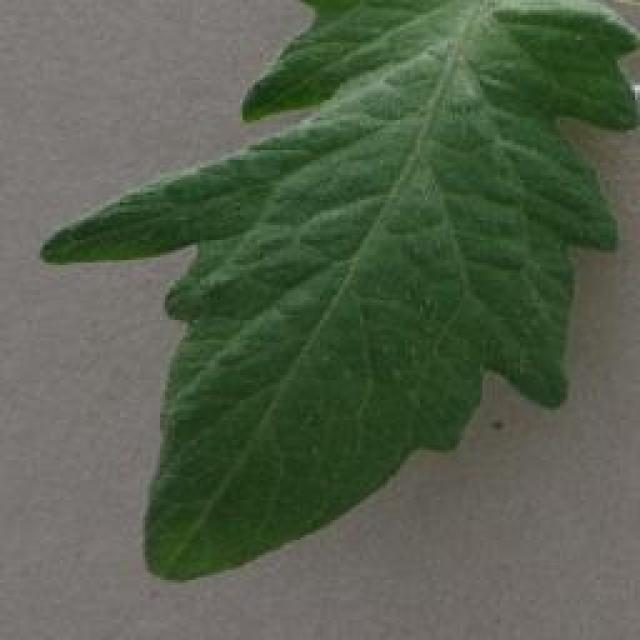Tomato___Late_blight: (37, 0, 638, 587)
